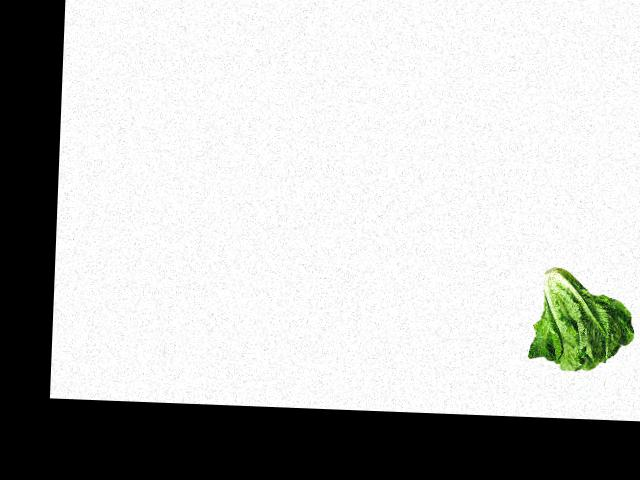lettuce: (529, 261, 638, 374)
